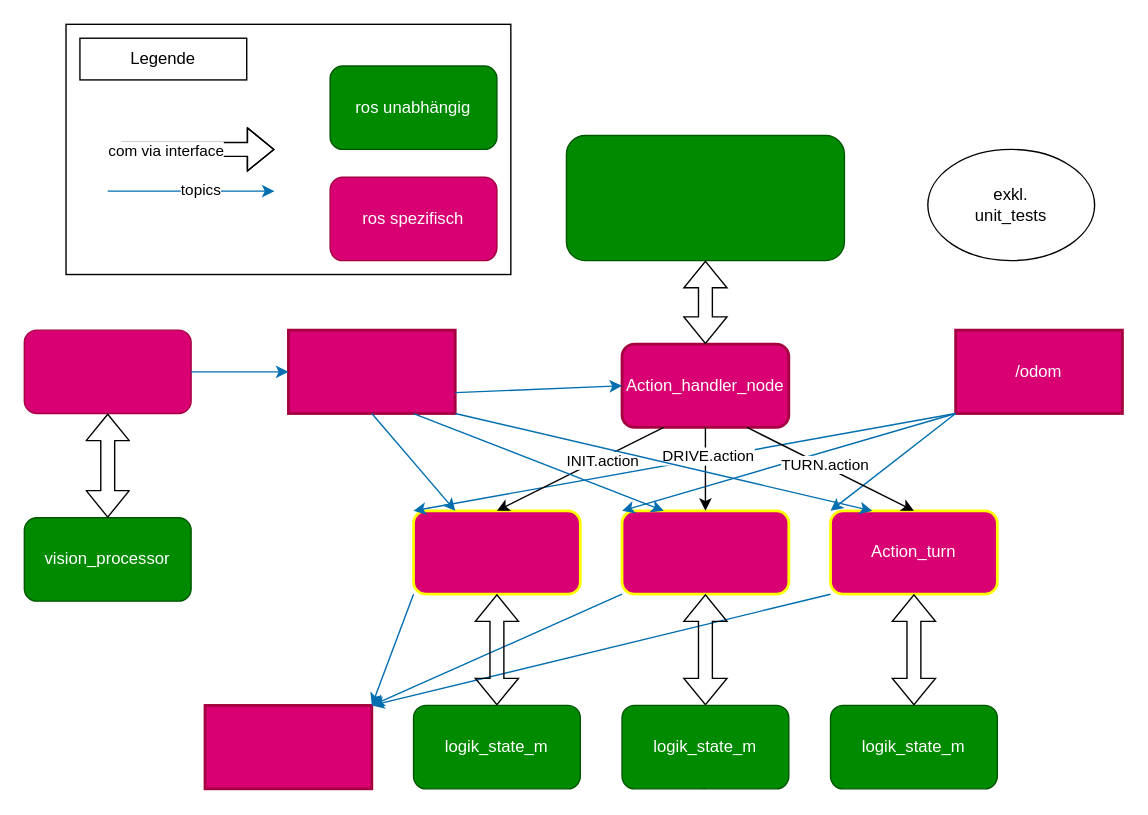
Image size: 1148x815. Some labels were removed from this diagram. Each missing label, with the centre of its shape:
"/cmd_vel" goes at (288,746).
"/picture_data" goes at (371,371).
"Acion_drive" goes at (705,552).
"Acrion_init" goes at (496,552).
"main_controller" goes at (704,197).
"picture_interface" goes at (107,371).
